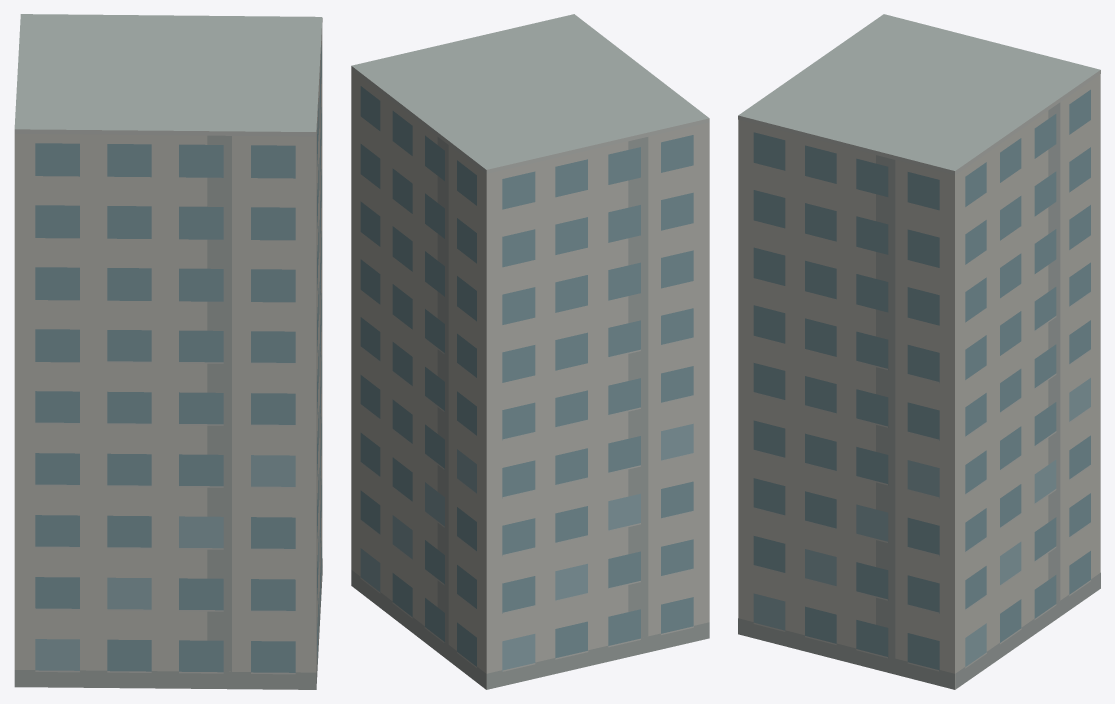
File: residential-7754f8fe-3bea-42b8-821f-afafffe80bfa.glb
3 views of the same model, side by side, from view 1: azimuth 30°, elevation 25°; view 2: azimuth 150°, elevation 25°; view 3: azimuth 270°, elevation 25° (orthographic). The views are drawn at different scales.
Parts seen in each view (by area): view 1: residential-7754f8fe-3bea-42b8-821f-afafffe80bfa.tmp; view 2: residential-7754f8fe-3bea-42b8-821f-afafffe80bfa.tmp; view 3: residential-7754f8fe-3bea-42b8-821f-afafffe80bfa.tmp.
Part boxes in pixels (<box>): residential-7754f8fe-3bea-42b8-821f-afafffe80bfa.tmp: <box>14,14,322,689</box>; residential-7754f8fe-3bea-42b8-821f-afafffe80bfa.tmp: <box>351,14,709,689</box>; residential-7754f8fe-3bea-42b8-821f-afafffe80bfa.tmp: <box>738,14,1100,689</box>.
Size of the model in its own units: 19.49 by 30 by 19.01.
